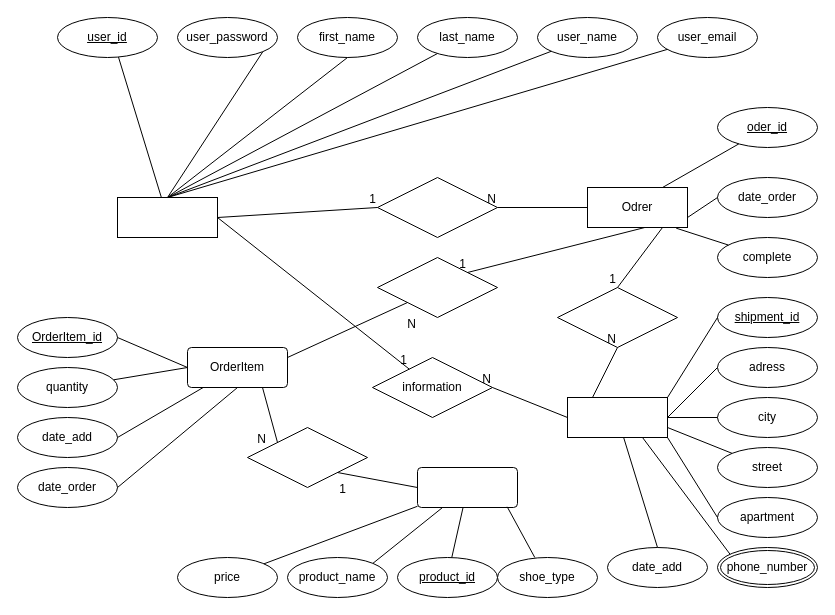
The diagram is 835 pixels wide and 615 high, and some of its shapes have lost their labels. Here are the shapes that lost their labels. From the top down, the box of each, then its label:
(116, 196, 218, 238): user
(376, 176, 498, 238): conduct_by
(376, 256, 498, 318): In_Order
(556, 286, 678, 348): Shipment of Order
(566, 396, 668, 438): Shipment
(246, 426, 368, 488): have_product
(416, 466, 518, 508): Product
